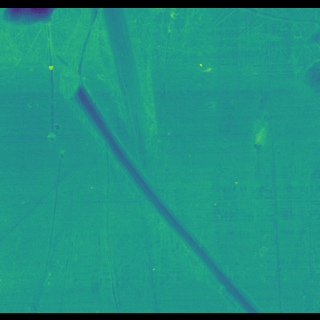Loch: (51, 61, 284, 305), (0, 15, 320, 85), (89, 14, 165, 174), (24, 149, 67, 308), (244, 114, 279, 158)
